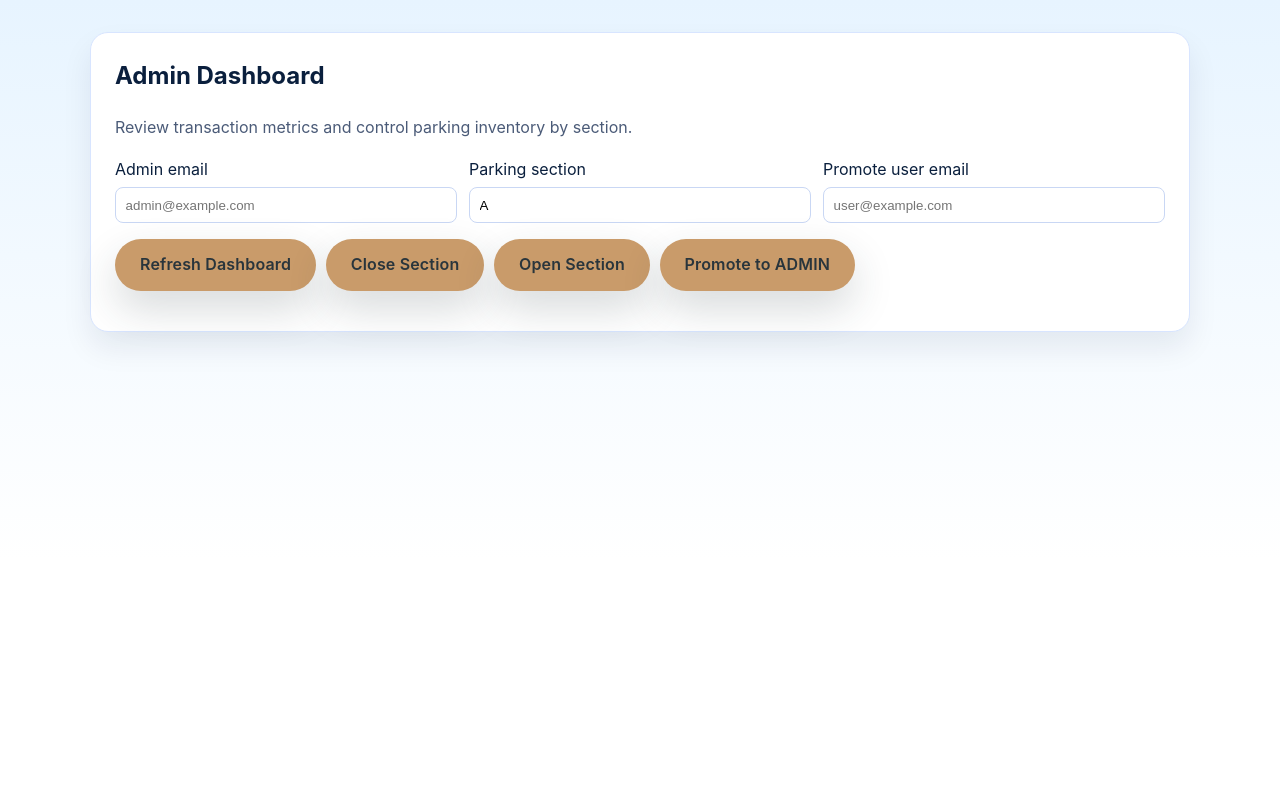
Test: AdminDashboardPage › closes and opens section, then refreshes dashboard
The width and height of the screenshot is (1280, 800).
Type "admin@club.com" into the field with placeholder "admin@example.com". click: point(286, 205)
box: [115, 187, 457, 224]
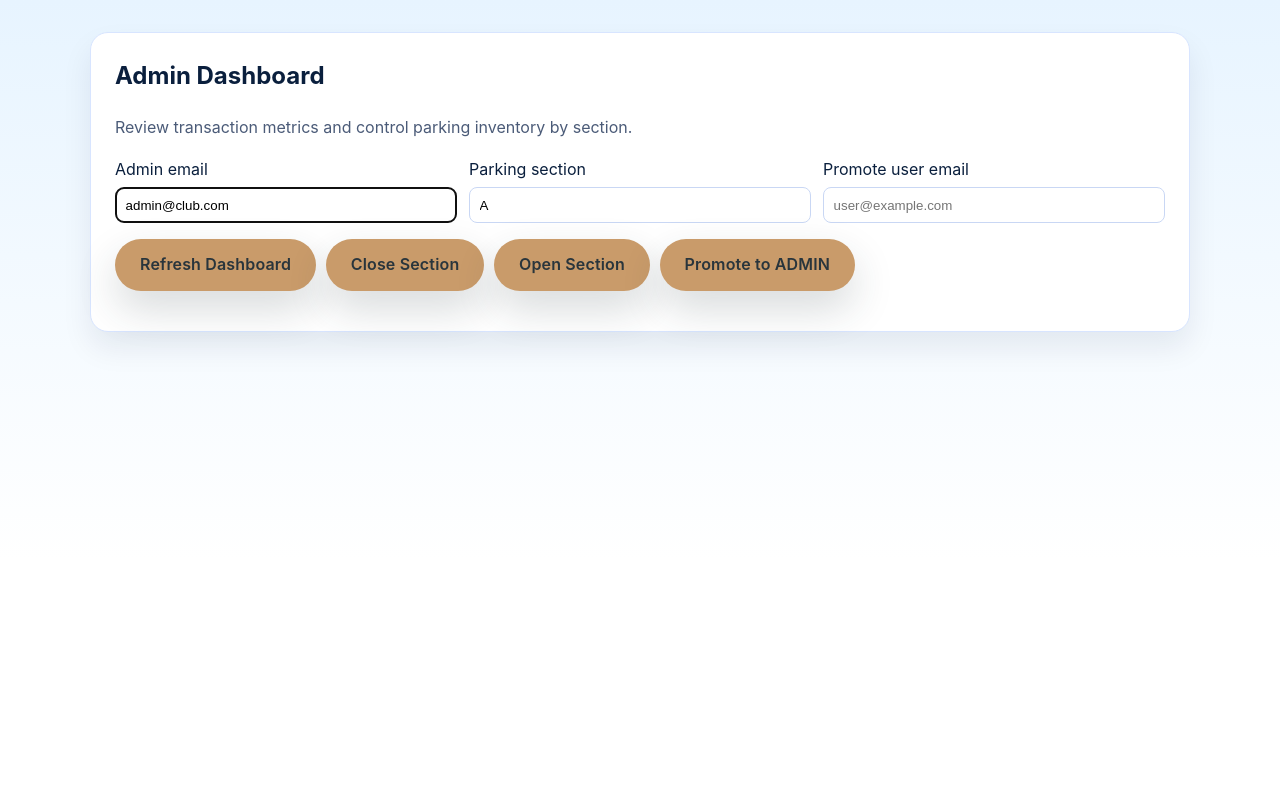
Type "b" into the field with placeholder "a". click: point(640, 205)
box: [469, 187, 811, 224]
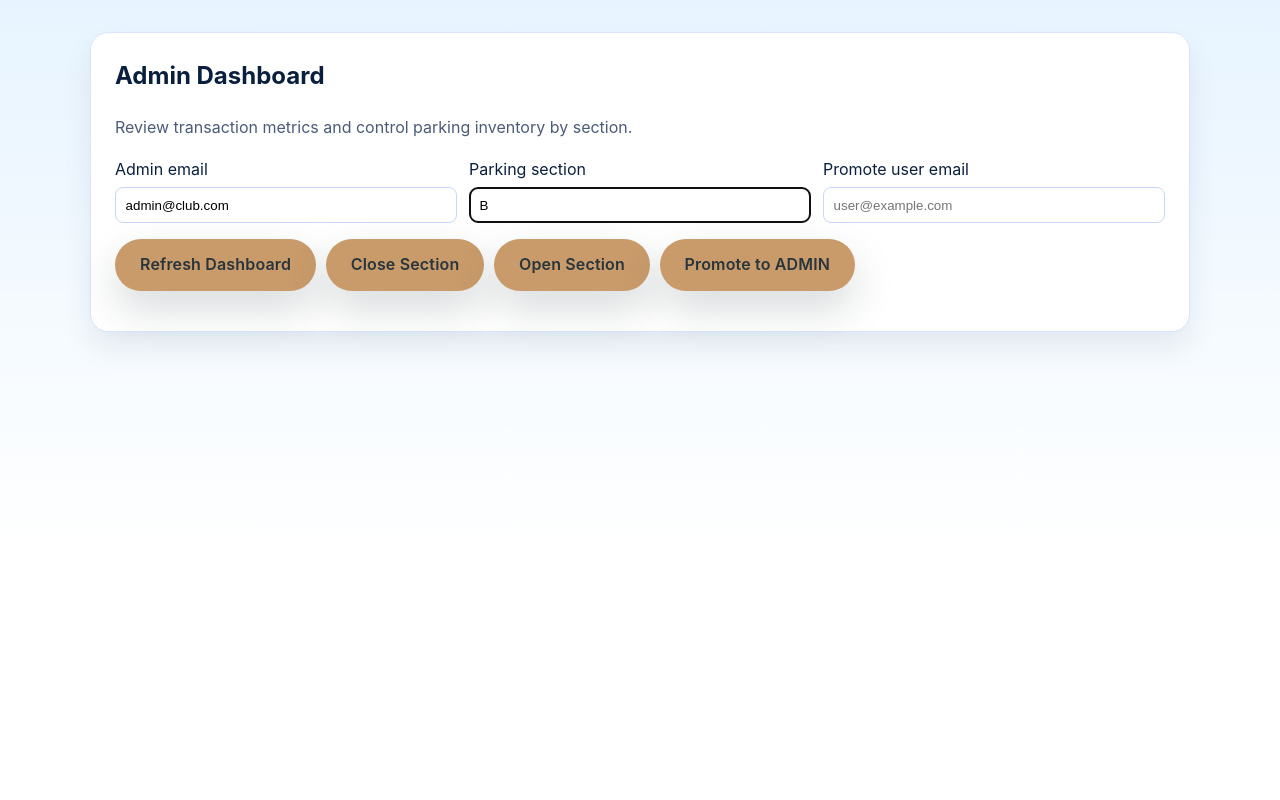
Click the button "Close Section". click: point(405, 265)
box: [326, 240, 484, 291]
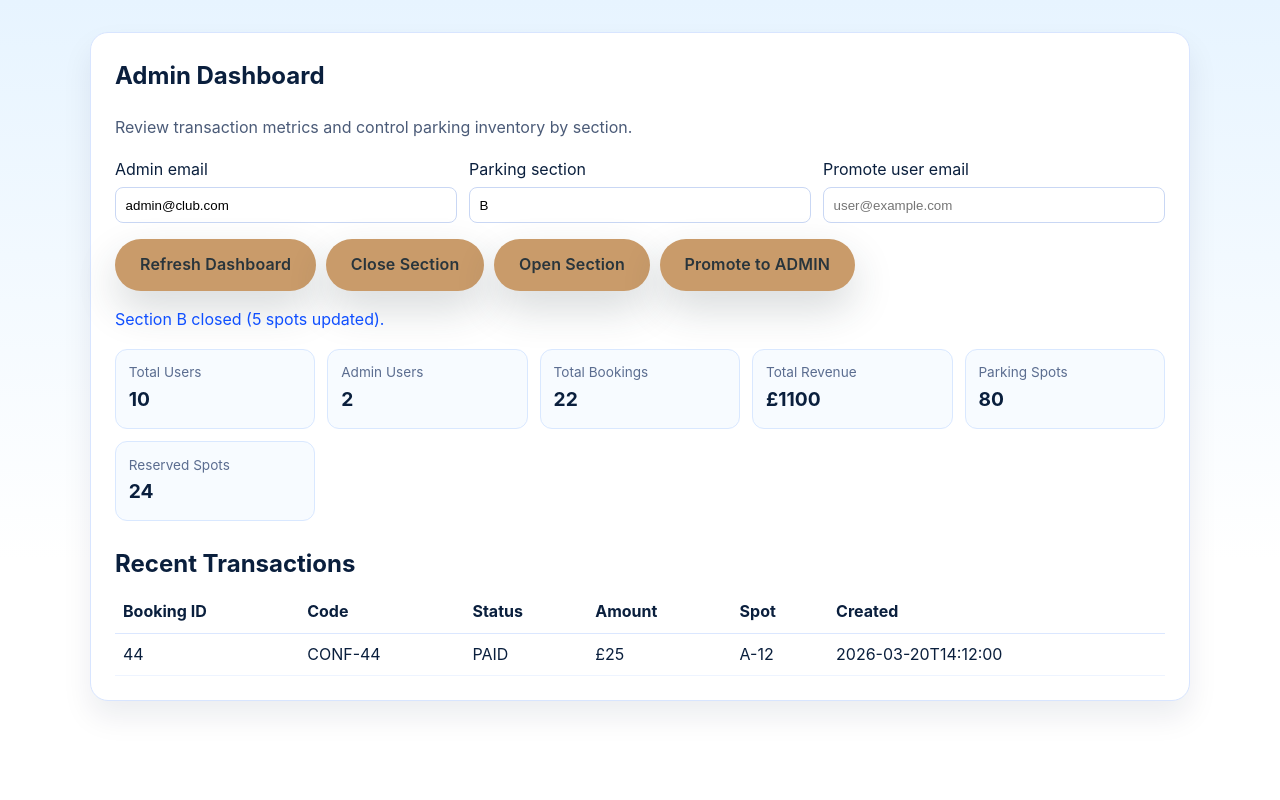
expect the text "Section B closed (5 spots updated)." is shown: met, box [115, 309, 384, 329]
Click the button "Open Section". click: point(572, 265)
box: [494, 240, 650, 291]
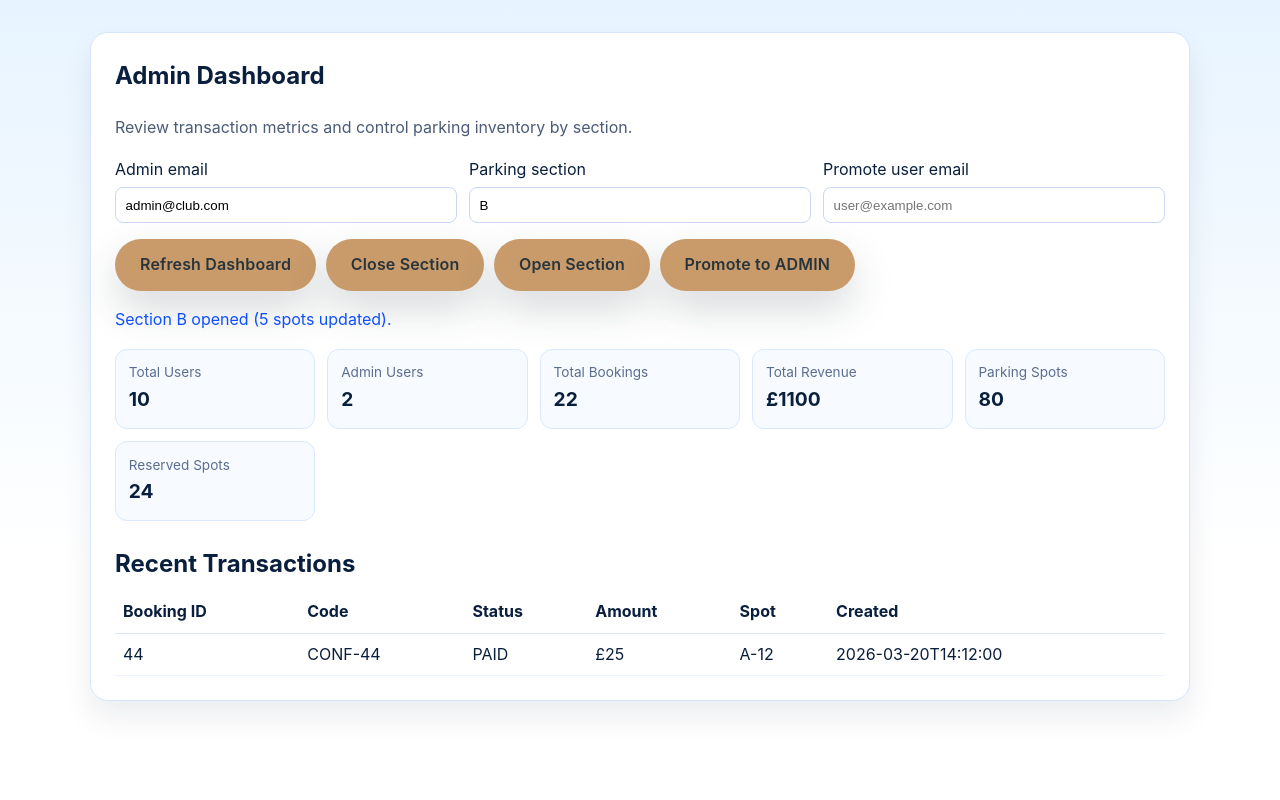
expect the text "Section B opened (5 spots updated)." is shown: met, box [115, 309, 392, 329]
